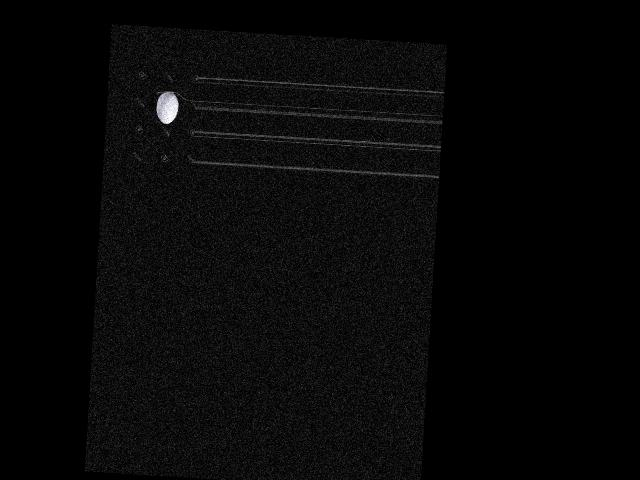egg: (155, 91, 179, 124)
